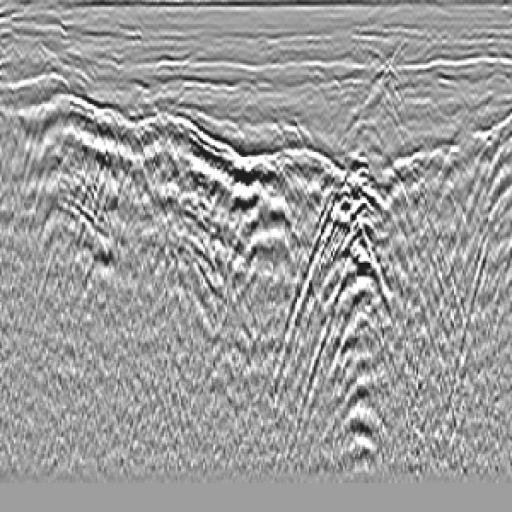metalic: (192, 103, 299, 302)
